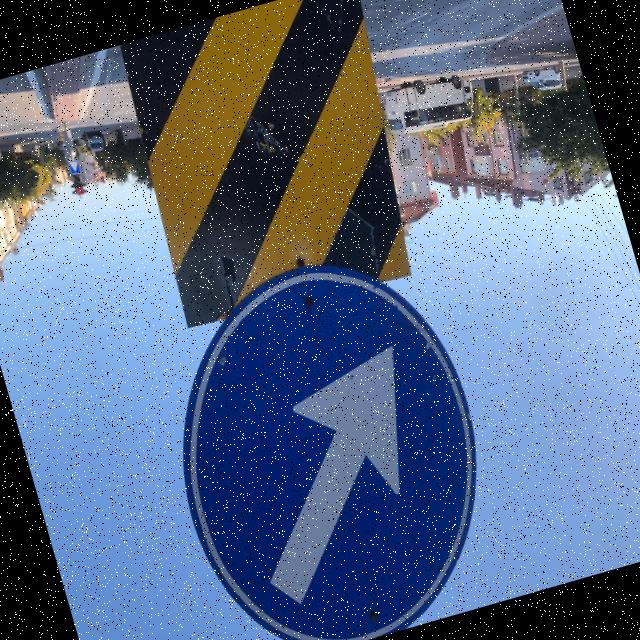compulsory_keep_right: (124, 229, 531, 640)
